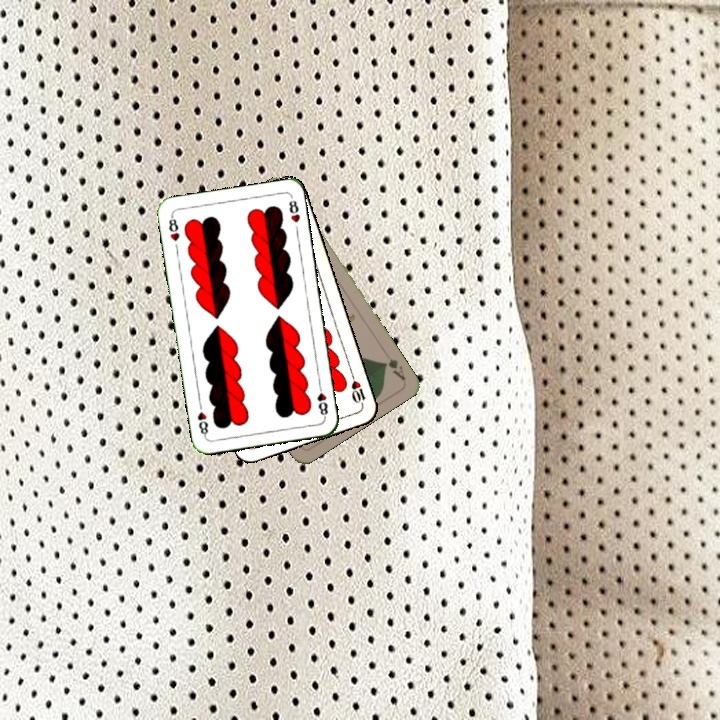GA: (379, 354, 408, 383)
H10: (347, 369, 368, 409)
H8: (313, 380, 330, 420), (164, 212, 182, 244)
